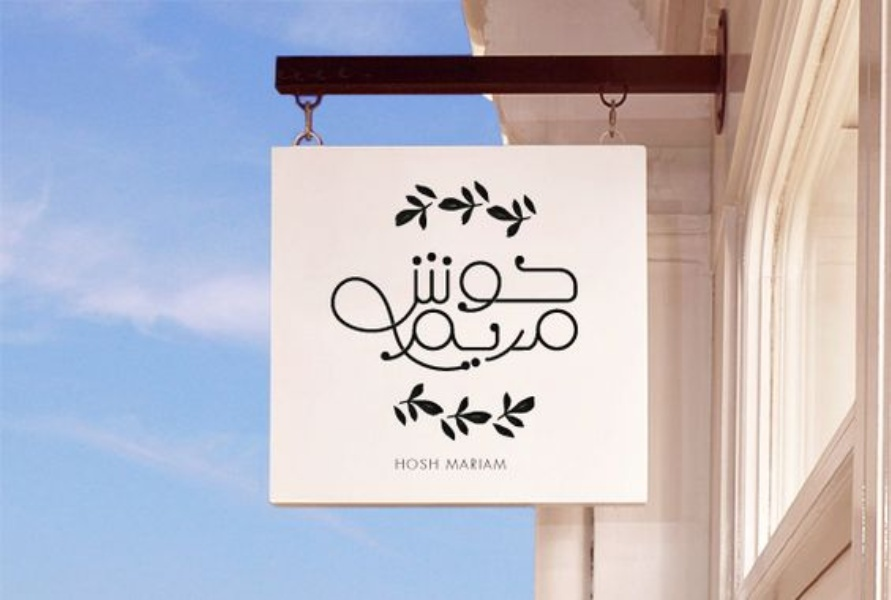text: (337, 248, 352, 337), (353, 248, 368, 337), (369, 248, 384, 337), (385, 248, 400, 337), (401, 248, 416, 337), (417, 248, 432, 337), (433, 248, 448, 337), (449, 248, 464, 337), (465, 248, 480, 337), (481, 248, 496, 337), (497, 248, 512, 337), (513, 248, 528, 337), (529, 248, 544, 337), (545, 248, 560, 337), (561, 248, 576, 337), (385, 304, 400, 372), (401, 304, 416, 372), (417, 304, 432, 372), (433, 304, 448, 372), (449, 304, 464, 372), (465, 304, 480, 372), (481, 304, 496, 372), (497, 304, 512, 372), (513, 304, 528, 372), (529, 304, 544, 372), (545, 304, 560, 372), (561, 304, 576, 372), (577, 248, 583, 337), (331, 248, 336, 337), (577, 304, 583, 372), (449, 455, 464, 476), (465, 455, 480, 476), (481, 455, 496, 476), (497, 455, 511, 476), (401, 455, 416, 474), (417, 455, 432, 474), (380, 304, 384, 372), (392, 455, 400, 474), (433, 455, 441, 474), (443, 455, 448, 476)
